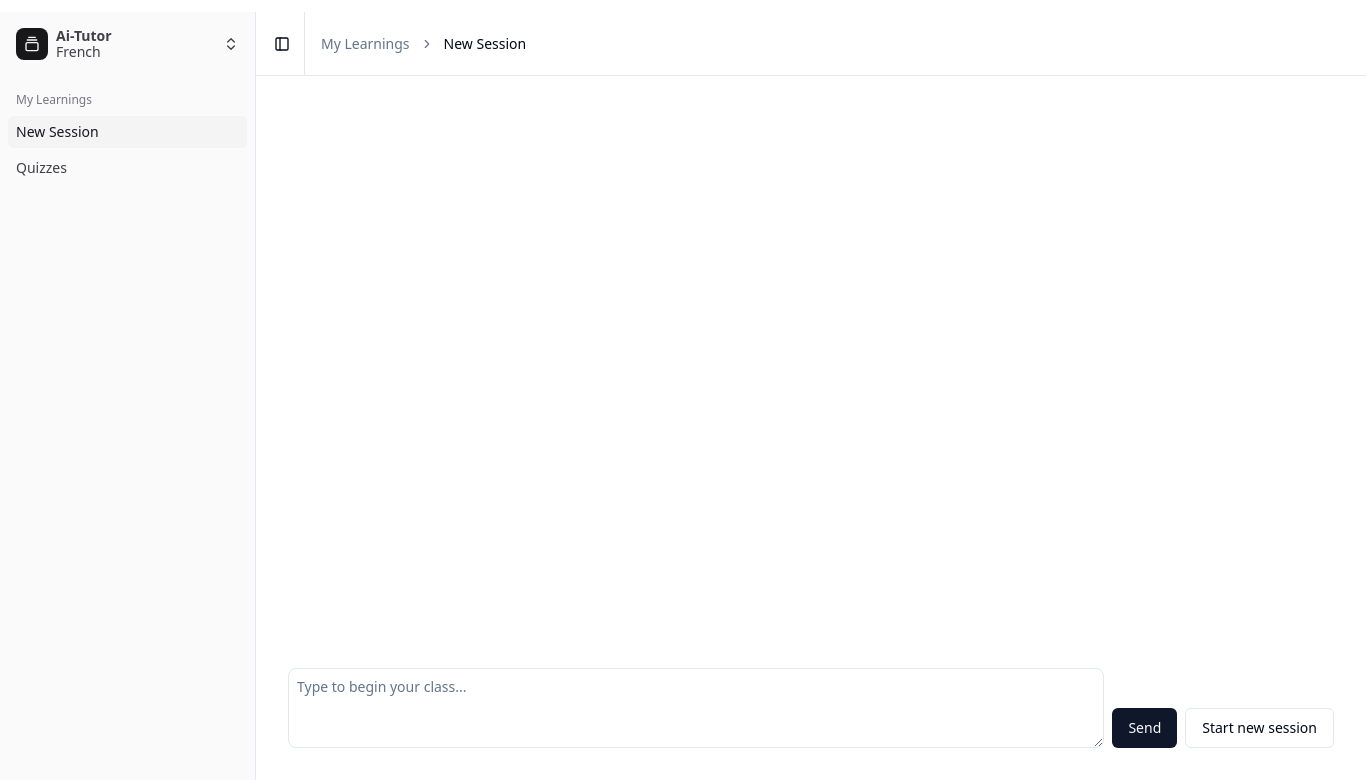
Chat App › sends a message and gets a response
This screenshot has width=1366, height=780.
Type "Hello AI!" into the text box with placeholder "Type to begin your class..." at (696,708), box [288,668,1104,748]
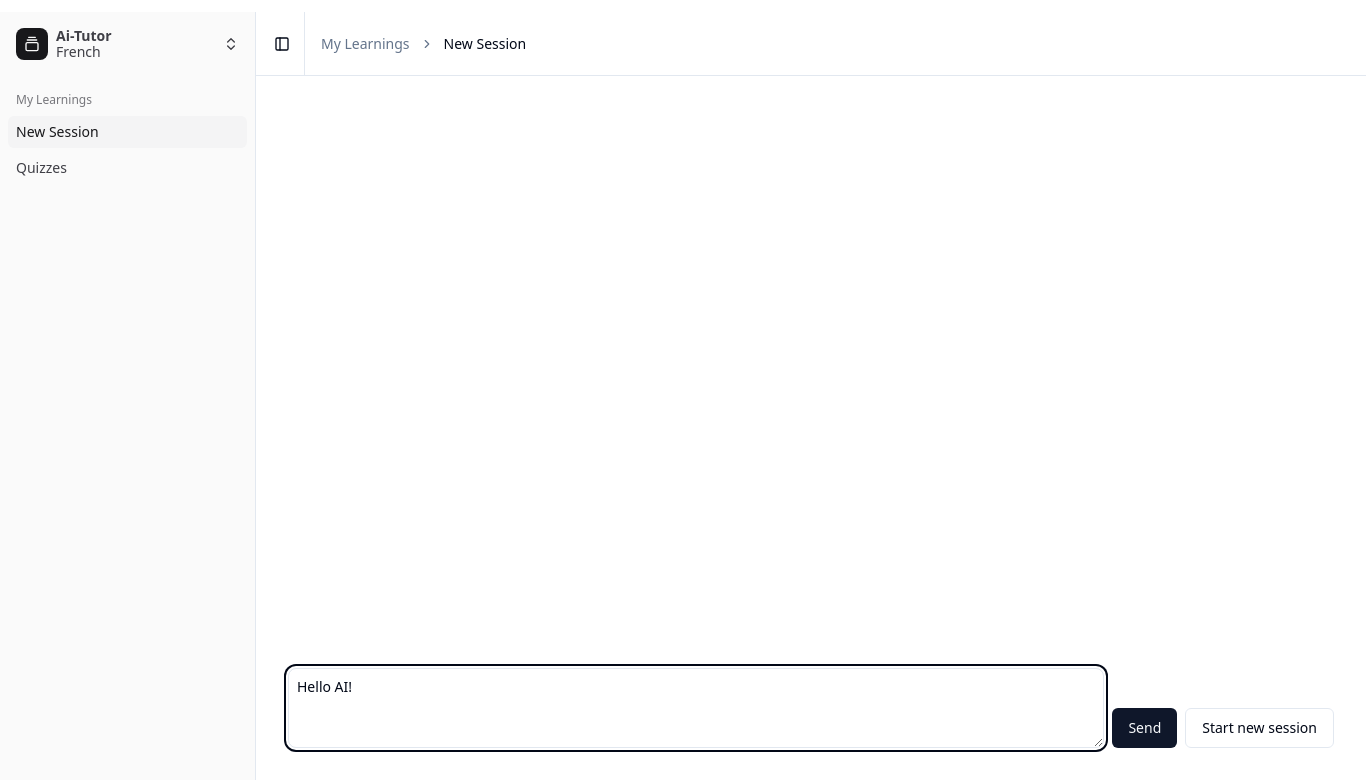
Click the button "Send" at (1145,728), box [1112,708,1177,748]
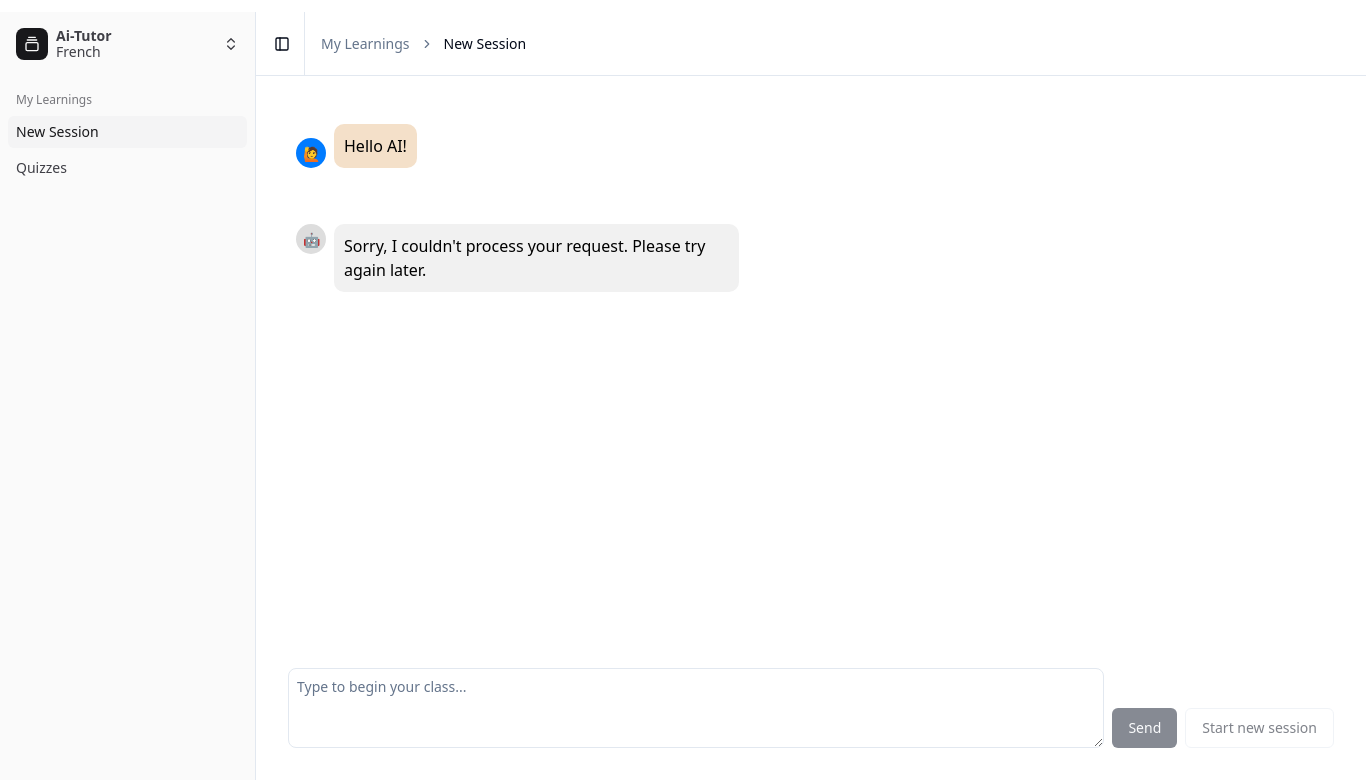
Now the text with class "message-text" reads "Hello AI!", box [344,135,407,157]
Now the 2nd element with class "message" is shown, box [334,224,739,292]
